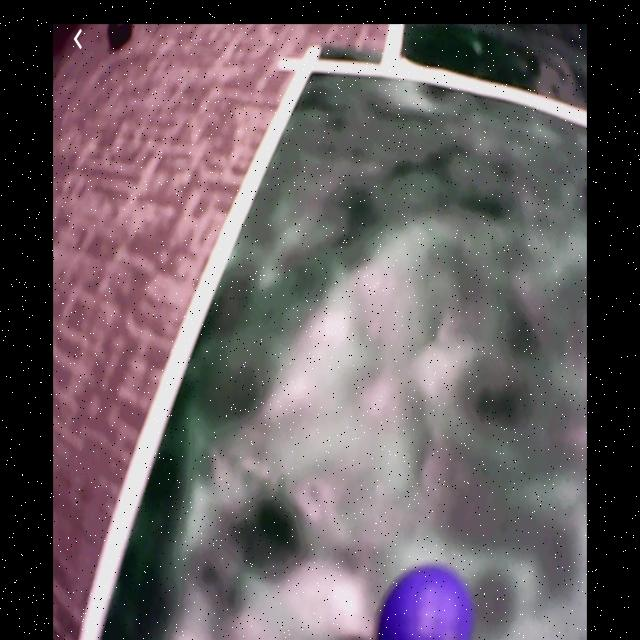ball: (378, 565, 469, 640)
